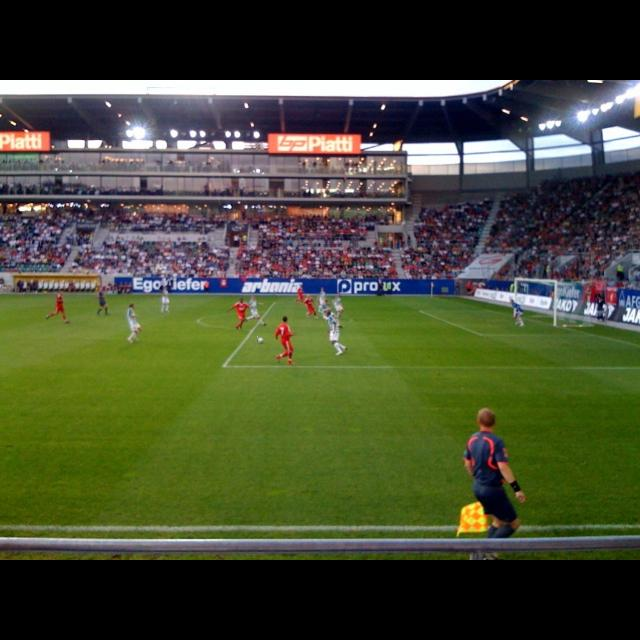Football: (257, 336, 261, 342)
